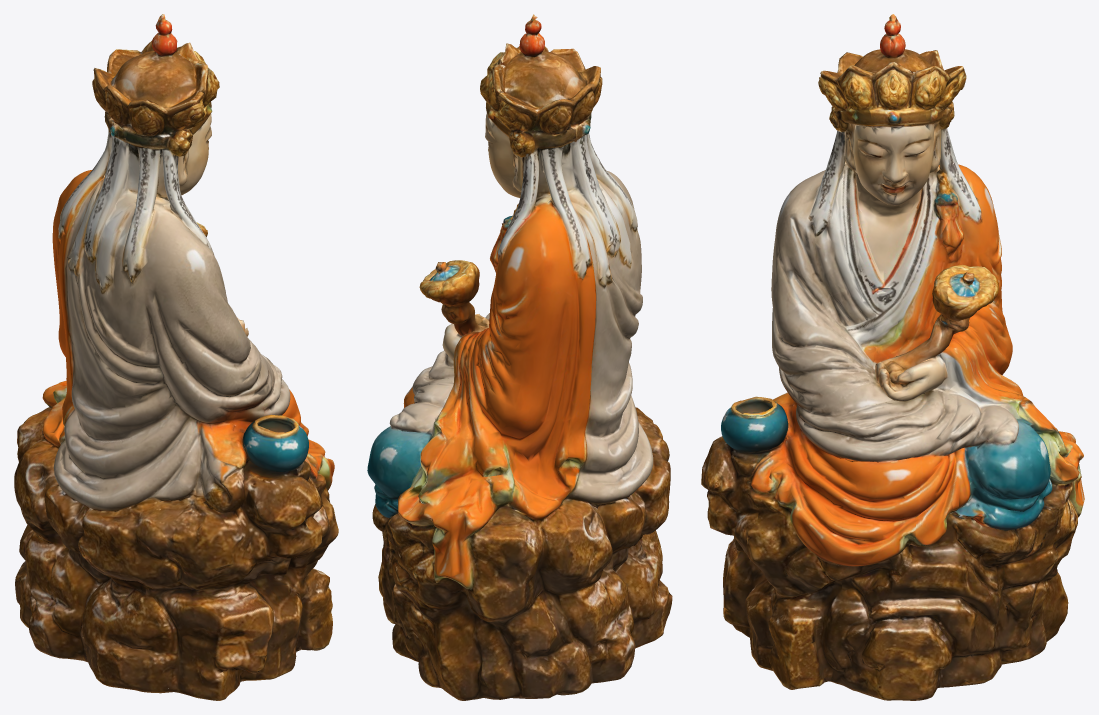
Rendered from speechless-buddha-web-mobile.glb.
The picture shows the model from 3 angles, left to right: view 1: azimuth 30°, elevation 25°; view 2: azimuth 150°, elevation 25°; view 3: azimuth 270°, elevation 25°; orthographic projection.
Parts seen in each view (by area): view 1: tripo_node_fe233c2f-3267-4b3a-8270-e711cd19128f; view 2: tripo_node_fe233c2f-3267-4b3a-8270-e711cd19128f; view 3: tripo_node_fe233c2f-3267-4b3a-8270-e711cd19128f.
Boxes of the visible parts, box(x1,y1,x2,y2) form: tripo_node_fe233c2f-3267-4b3a-8270-e711cd19128f: box(14, 14, 338, 700); tripo_node_fe233c2f-3267-4b3a-8270-e711cd19128f: box(367, 14, 672, 700); tripo_node_fe233c2f-3267-4b3a-8270-e711cd19128f: box(701, 14, 1084, 700).
Bounding box in the file's own units: 0.4171 × 0.979 × 0.5447.
Materials: 1 (1 with a texture image).
